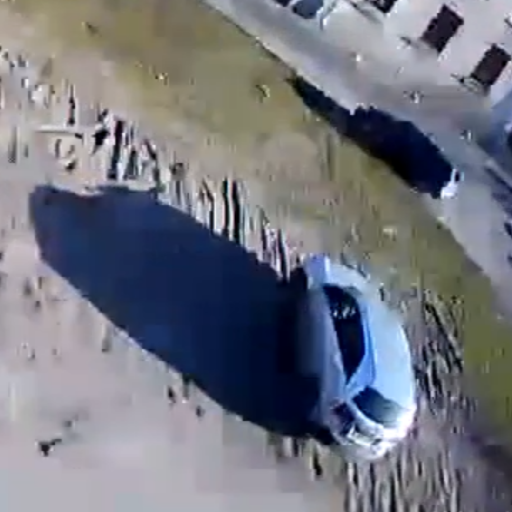Car: (290, 253, 418, 460), (351, 102, 463, 200)
